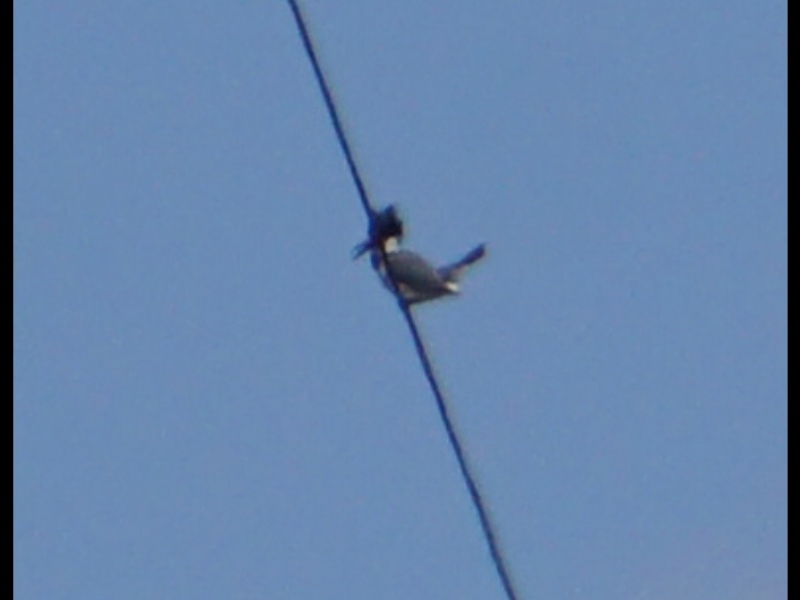kingfisher: (351, 204, 488, 313)
